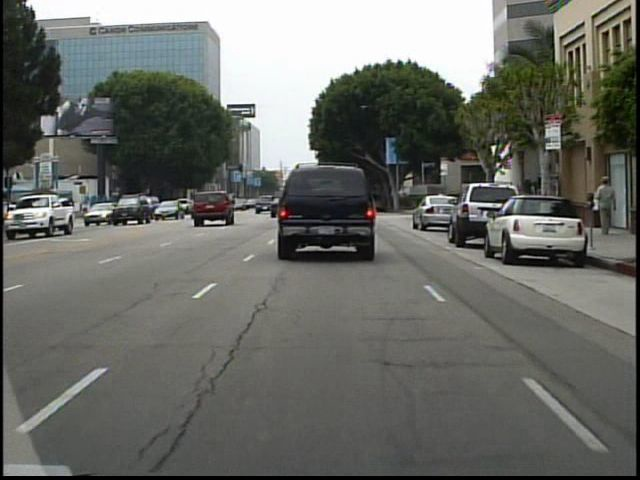person: (591, 173, 618, 238), (477, 177, 496, 221), (434, 186, 451, 222), (34, 199, 50, 226)
